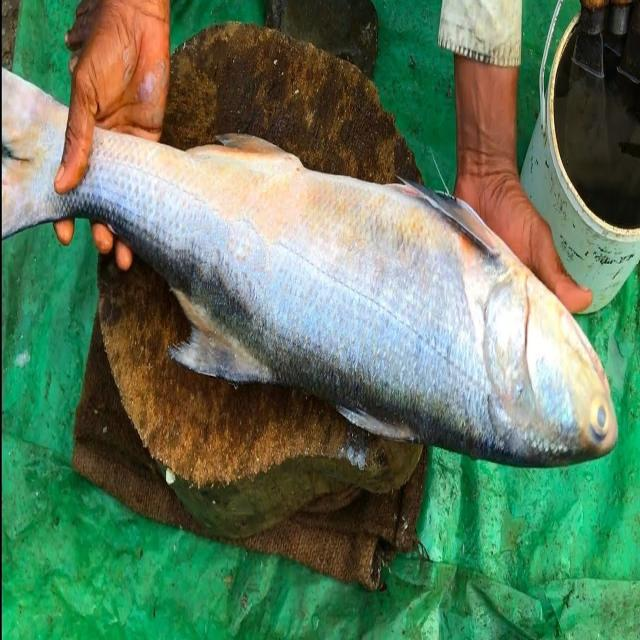Fourfinger-Threadfin: (0, 30, 621, 507)
